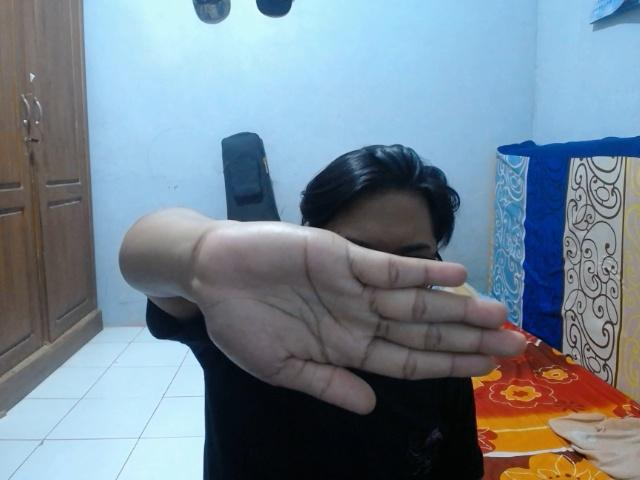Release: (184, 207, 531, 425)
